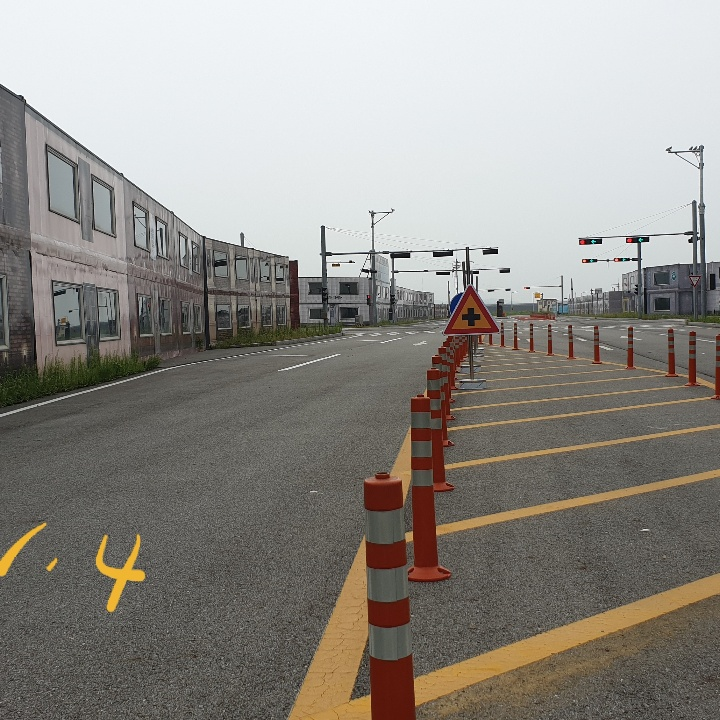inter: (458, 305, 481, 329)
